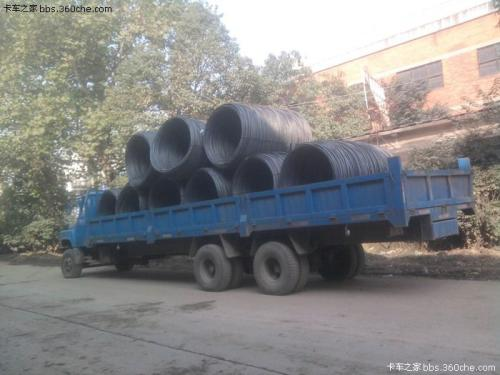chaozhai: (60, 95, 478, 315)
